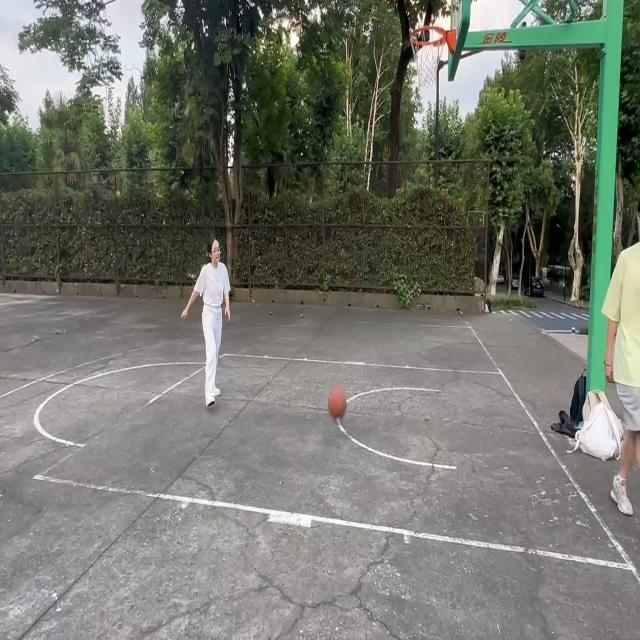basketball: (409, 27, 454, 93)
rim: (327, 384, 347, 418)
